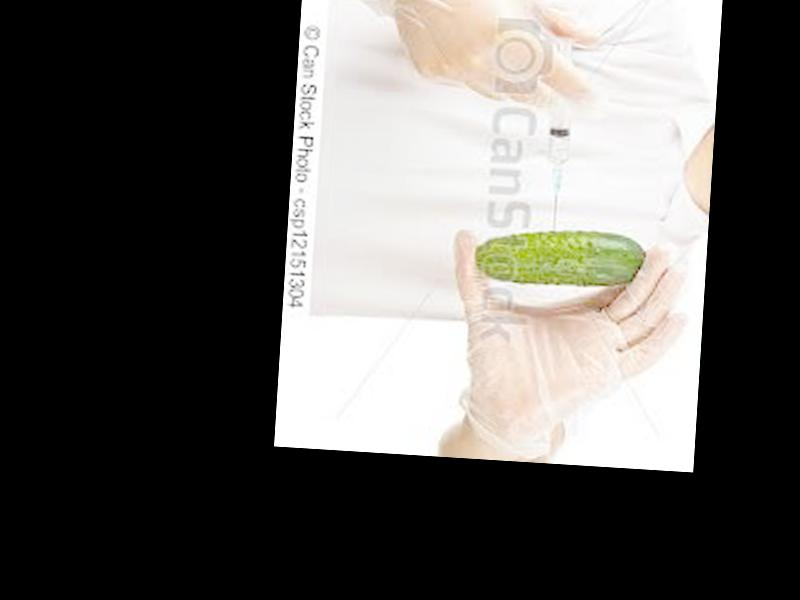Cucumber: (475, 226, 651, 293)
